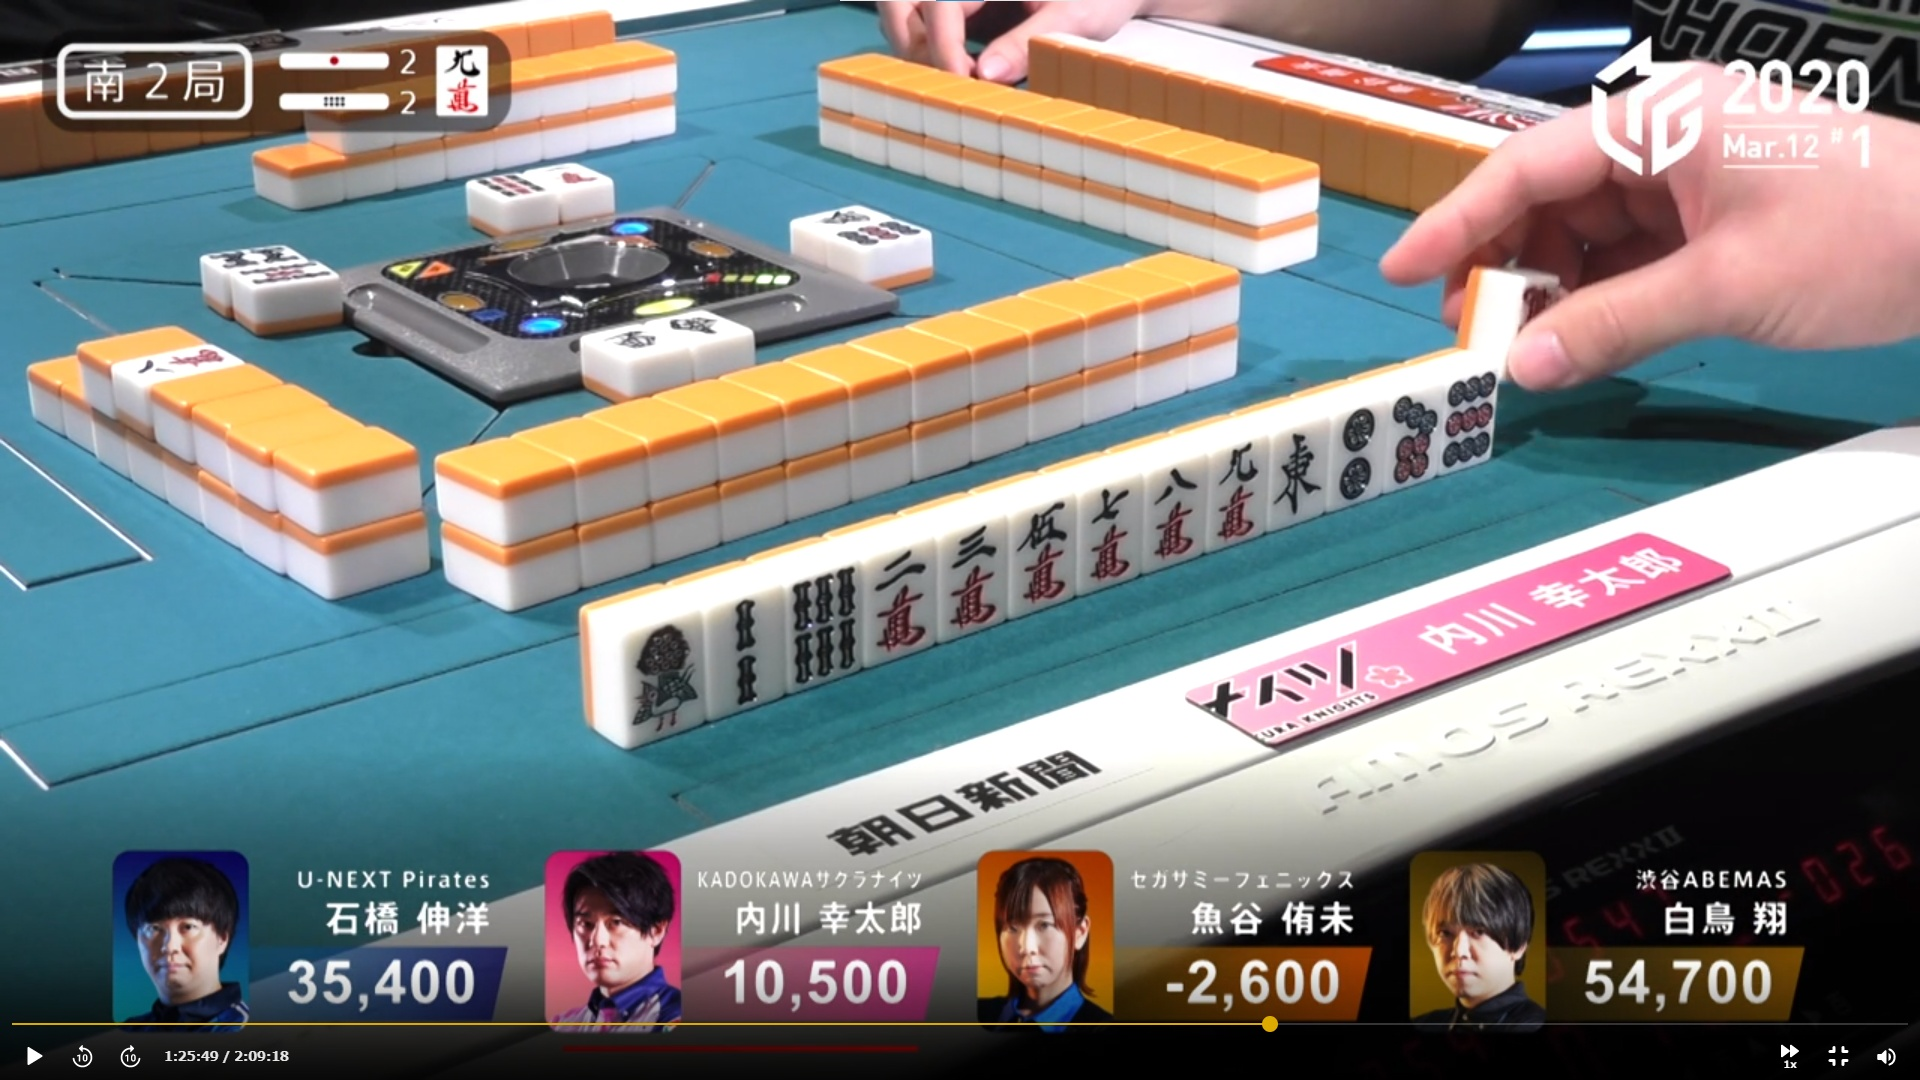1s: (615, 596, 699, 735)
2m: (862, 531, 928, 655)
2p: (1327, 384, 1385, 512)
2s: (704, 570, 782, 707)
3m: (936, 505, 994, 637)
5m: (1007, 475, 1065, 620)
6s: (785, 563, 858, 683)
7m: (1069, 454, 1141, 595)
7p: (1387, 375, 1436, 484)
8m: (1149, 433, 1205, 568)
9m: (1205, 419, 1262, 546)
9p: (1437, 357, 1497, 469)
hand_nan_2: (46, 37, 268, 121)
round_2: (274, 86, 431, 120)
team_kadokawa: (1187, 625, 1443, 749)
ton: (1269, 407, 1331, 527)
